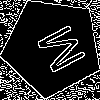M: (27, 22, 87, 80)
